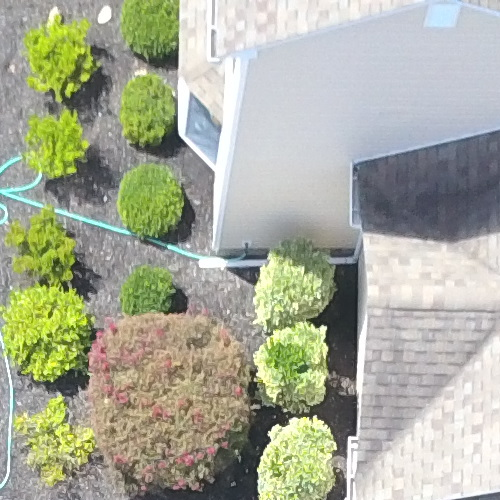gutter: (185, 238, 357, 276)
